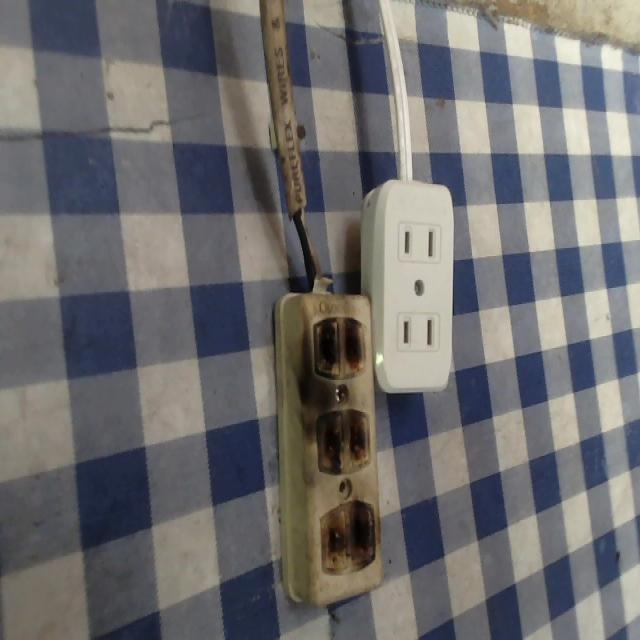-: (308, 309, 373, 380), (314, 407, 376, 472), (320, 500, 376, 563)
